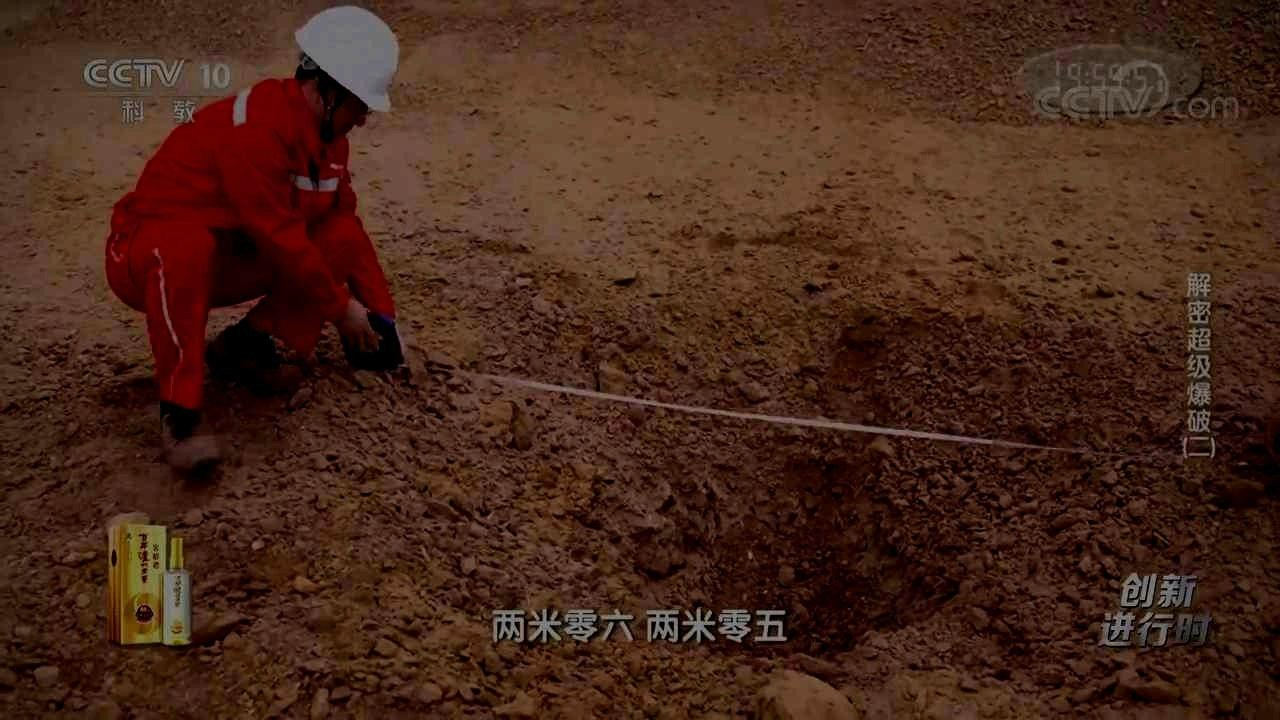helmet: (293, 4, 400, 142)
